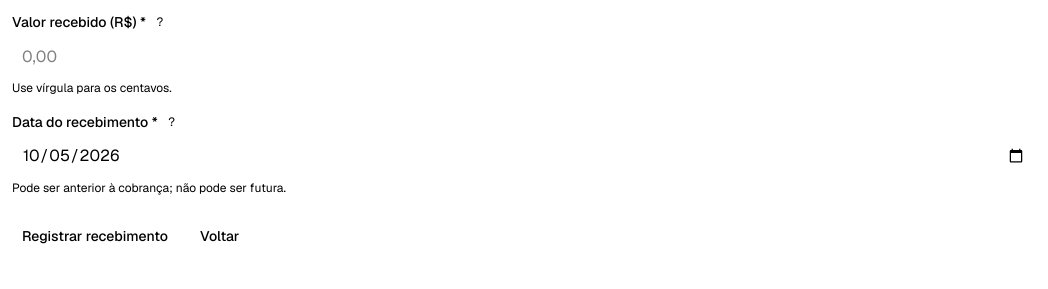
Test: PaymentForm › mantém valor inválido e campos após erro, anunciando erro acessível
This screenshot has width=1048, height=289.
Type "10,999" into the field labelled "Valor recebido (R$) *" at (524,56), box [12, 40, 1036, 72]
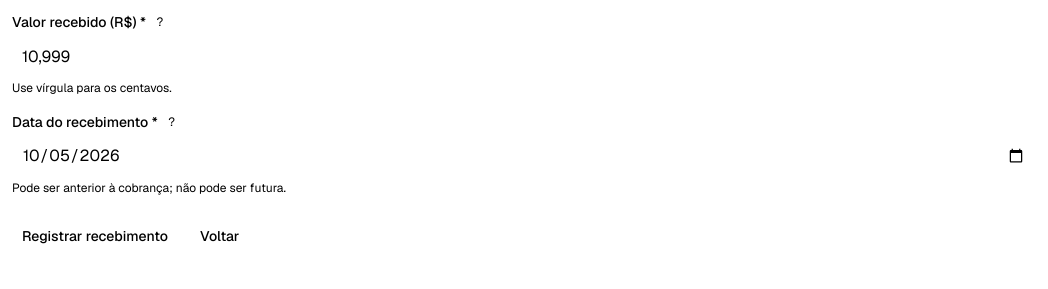
Submit the form labelled "Valor recebido (R$) *"
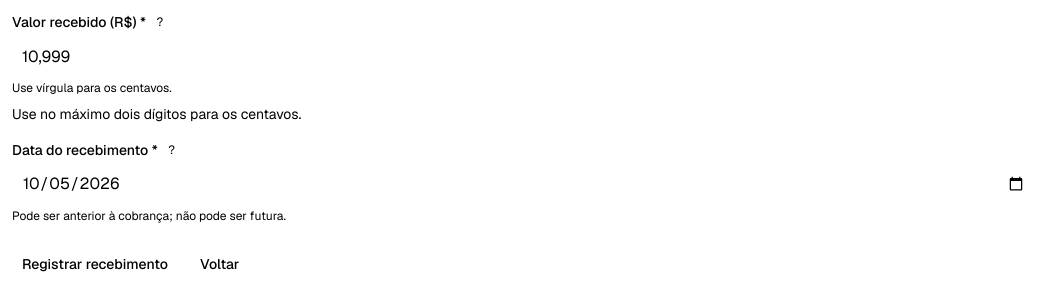
Expected: the date field labelled "Data do recebimento *" holds "2026-10-05", [12, 168, 1036, 200]
Expected: the text "Use no máximo dois dígitos para os centavos." is shown, [12, 105, 301, 123]
